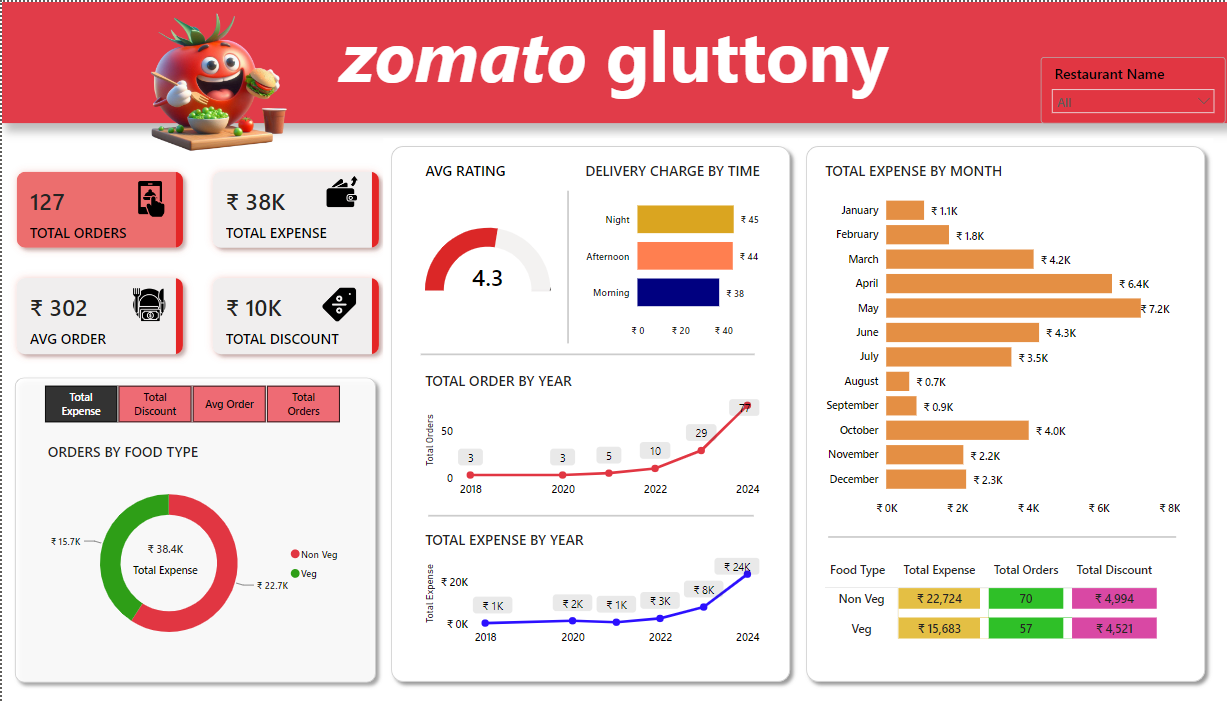

The dashboard page shown, as its layout file describes it:
{"tool":"powerbi","page":{"name":"zomato","canvas":[1400,800],"ordinal":0},"visuals":[{"type":"cardVisual","fields":{"Data":["Orders.Total Orders","Orders.Total Revenue","Orders.Average Order Value","Orders.Total Discounts Given"]},"box":[0,176.6,449.6,243.1],"z":0},{"type":"textbox","box":[0,0,1400.3,138.5],"z":1000},{"type":"image","box":[133.1,0,218.7,176.6],"z":2000},{"type":"shape","box":[5.4,419.7,430.6,366.7],"z":3000},{"type":"shape","box":[910,156.2,474,630.2],"z":4000},{"type":"donutChart","title":"ORDERS BY FOOD TYPE","fields":{"Y":["Orders.Total Expense"],"Category":["Orders.Food Type"]},"box":[47.2,502.8,351.4,255.6],"z":5000},{"type":"slicer","fields":{"Values":["Metric.Metric"]},"box":[23.1,431.9,387.1,50.3],"z":6000},{"type":"shape","box":[436,156.2,474,630.2],"z":7000},{"type":"lineChart","title":"TOTAL ORDER BY YEAR","fields":{"Y":["Orders.Total Orders"],"Category":["Orders.Date.Variation.Date Hierarchy.Year","Orders.Date.Variation.Date Hierarchy.Quarter","Orders.Date.Variation.Date Hierarchy.Month","Orders.Date.Variation.Date Hierarchy.Day"]},"box":[478.1,421.1,392.5,153.5],"z":8000},{"type":"lineChart","title":"TOTAL EXPENSE BY YEAR","fields":{"Category":["Orders.Date.Variation.Date Hierarchy.Year","Orders.Date.Variation.Date Hierarchy.Quarter","Orders.Date.Variation.Date Hierarchy.Month","Orders.Date.Variation.Date Hierarchy.Day"],"Y":["Orders.Total Expense"]},"box":[478.1,603.1,392.5,141.3],"z":9000},{"type":"cardVisual","fields":{"Data":["Orders.Total Expense"]},"box":[127.8,597.2,119.4,80.6],"z":10000},{"type":"barChart","title":"TOTAL EXPENSE BY MONTH","fields":{"Y":["Orders.Total Expense"],"Category":["Orders.Date.Variation.Date Hierarchy.Month"]},"box":[935.8,182,415.6,415.6],"z":11000},{"type":"shape","box":[478.1,385.7,381.7,34],"z":12000},{"type":"shape","box":[487.6,573.2,372.2,28.5],"z":13000},{"type":"pivotTable","fields":{"Rows":["Orders.Food Type"],"Values":["Orders.Total Expense","Orders.Total Orders","Orders.Total Discount"]},"box":[935.8,631.6,398,108.7],"z":14000},{"type":"shape","box":[944,597.6,398,28.5],"z":15000},{"type":"gauge","title":"AVG RATING","fields":{"Y":["Orders.Avg Rating"],"MinValue":["Min(Orders.Rating)"],"MaxValue":["Max(Orders.Rating)"],"TargetValue":["Max(Orders.Rating)"]},"box":[478.1,182,153.5,203.7],"z":16000},{"type":"shape","box":[631,215.5,31,174.6],"z":17000},{"type":"clusteredBarChart","title":"DELIVERY CHARGE BY TIME","fields":{"Y":["Orders.Avg delivery charge"],"Category":["Orders.Time Period"]},"box":[661.5,182,221.4,211.9],"z":18000},{"type":"slicer","fields":{"Values":["Orders.Restaurant Name"]},"box":[1187.5,62.5,211.1,76.4],"z":19000},{"type":"image","box":[144,198.3,53,53],"z":19001},{"type":"image","box":[139.9,321.9,57,48.9],"z":19002},{"type":"image","box":[361.4,318.6,48.6,54.3],"z":19003},{"type":"image","box":[364.3,190,48.6,54.3],"z":19004}]}

Visuals, with their boxes in screenshot pixels (x1, y1, x2, y2), scaled from the page's 1400x800 canvas onto the 1227x701 screenshot:
cardVisual - Orders.Total Orders x Orders.Total Revenue: (0,155,394,368)
textbox: (0,0,1226,121)
image: (117,0,308,155)
shape: (5,368,382,689)
shape: (798,137,1213,689)
"ORDERS BY FOOD TYPE" donutChart: (41,441,349,665)
slicer - Metric.Metric: (20,378,360,423)
shape: (382,137,798,689)
"TOTAL ORDER BY YEAR" lineChart: (419,369,763,503)
"TOTAL EXPENSE BY YEAR" lineChart: (419,528,763,652)
cardVisual - Orders.Total Expense: (112,523,217,594)
"TOTAL EXPENSE BY MONTH" barChart: (820,159,1184,524)
shape: (419,338,754,368)
shape: (427,502,754,527)
pivotTable - Orders.Food Type x Orders.Total Expense: (820,553,1169,649)
shape: (827,524,1176,549)
"AVG RATING" gauge: (419,159,554,338)
shape: (553,189,580,342)
"DELIVERY CHARGE BY TIME" clusteredBarChart: (580,159,774,345)
slicer - Orders.Restaurant Name: (1041,55,1226,122)
image: (126,174,173,220)
image: (123,282,173,325)
image: (317,279,359,327)
image: (319,166,362,214)
